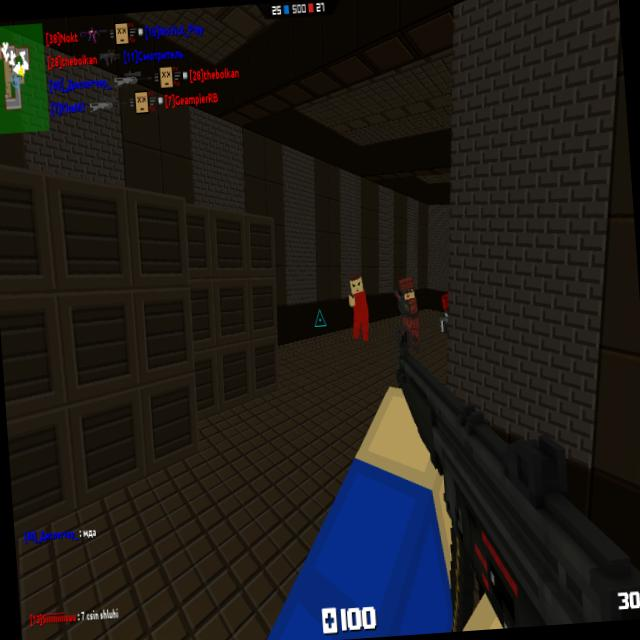enemy: (396, 275, 420, 353), (346, 272, 371, 346), (438, 292, 452, 338)
